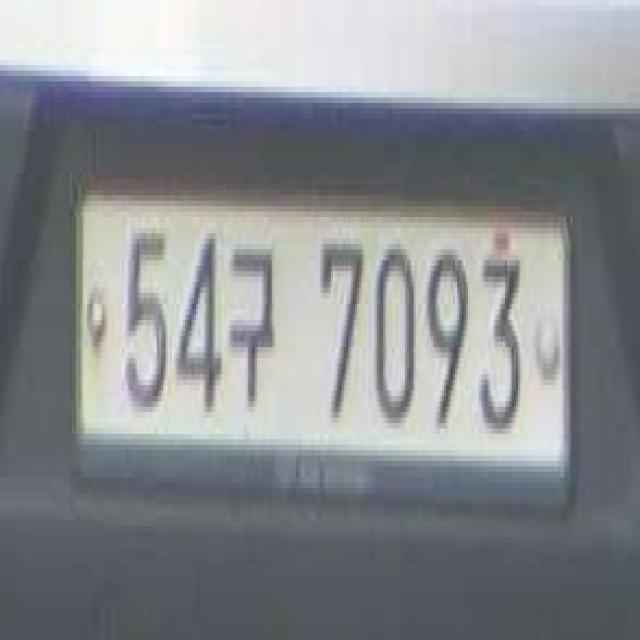0: (372, 241, 422, 433)
3: (478, 251, 522, 434)
4: (175, 224, 222, 426)
5: (120, 218, 170, 426)
7: (319, 227, 369, 432)
9: (426, 239, 472, 441)
gu: (225, 232, 279, 408)
license_plate: (71, 156, 587, 536)
